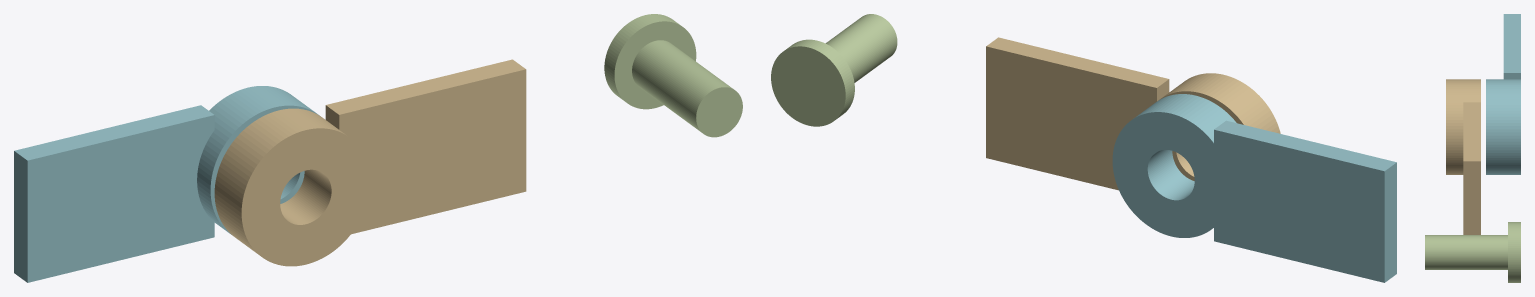
Rendered from assembly.glb.
3 views of the same model, side by side, from view 1: azimuth 30°, elevation 25°; view 2: azimuth 150°, elevation 25°; view 3: azimuth 270°, elevation 25° (orthographic). The views are drawn at different scales.
Visible parts, largest first — view 1: leaf_b, leaf_a, hinge_pin; view 2: leaf_a, leaf_b, hinge_pin; view 3: leaf_a, leaf_b, hinge_pin.
Part boxes in pixels (left/top/right/bottom): leaf_b: left=214, top=59, right=526, bottom=266; leaf_a: left=14, top=86, right=319, bottom=282; hinge_pin: left=604, top=14, right=742, bottom=137; leaf_a: left=1112, top=94, right=1396, bottom=282; leaf_b: left=986, top=37, right=1280, bottom=190; hinge_pin: left=771, top=14, right=897, bottom=126; leaf_a: left=1486, top=14, right=1520, bottom=174; leaf_b: left=1446, top=79, right=1480, bottom=234; hinge_pin: left=1425, top=222, right=1520, bottom=282.
Size of the model in its own units: 0.0575 by 0.011 by 0.011.
